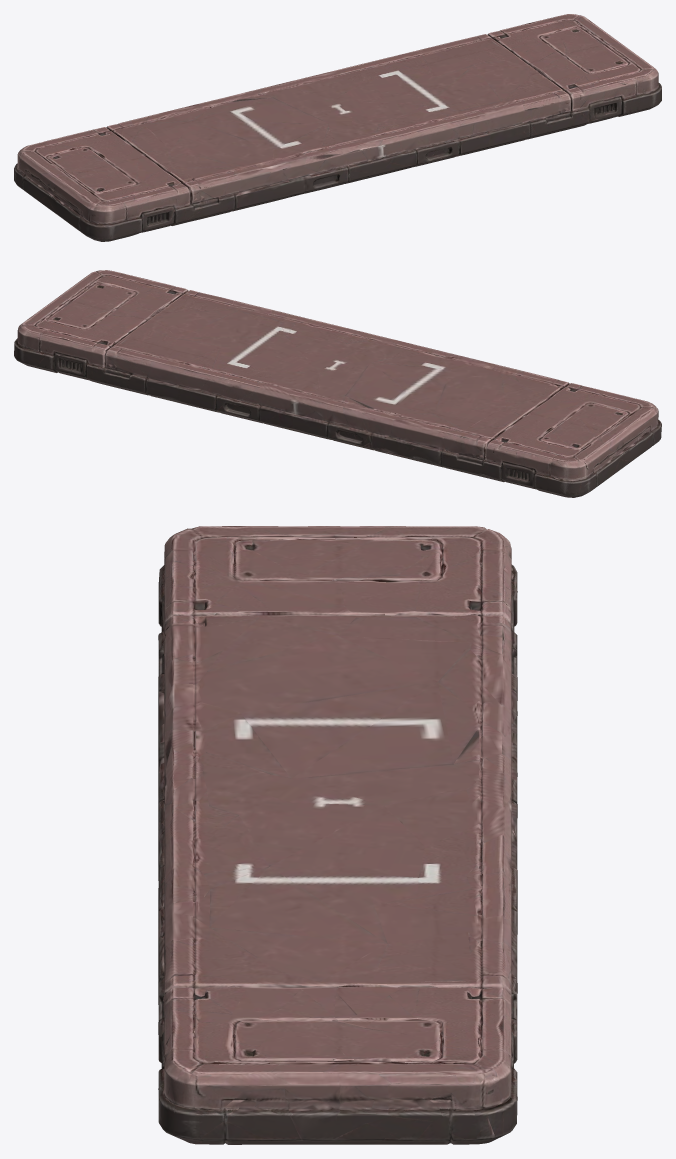
The model's file is landing-platform-enamel.glb.
3 views of the same model, one above another, from view 1: azimuth 30°, elevation 25°; view 2: azimuth 150°, elevation 25°; view 3: azimuth 270°, elevation 25° (orthographic). The views are drawn at different scales.
Size of the model in its own units: 1.9 by 0.1183 by 0.5157.
1 material, 1 textured.
